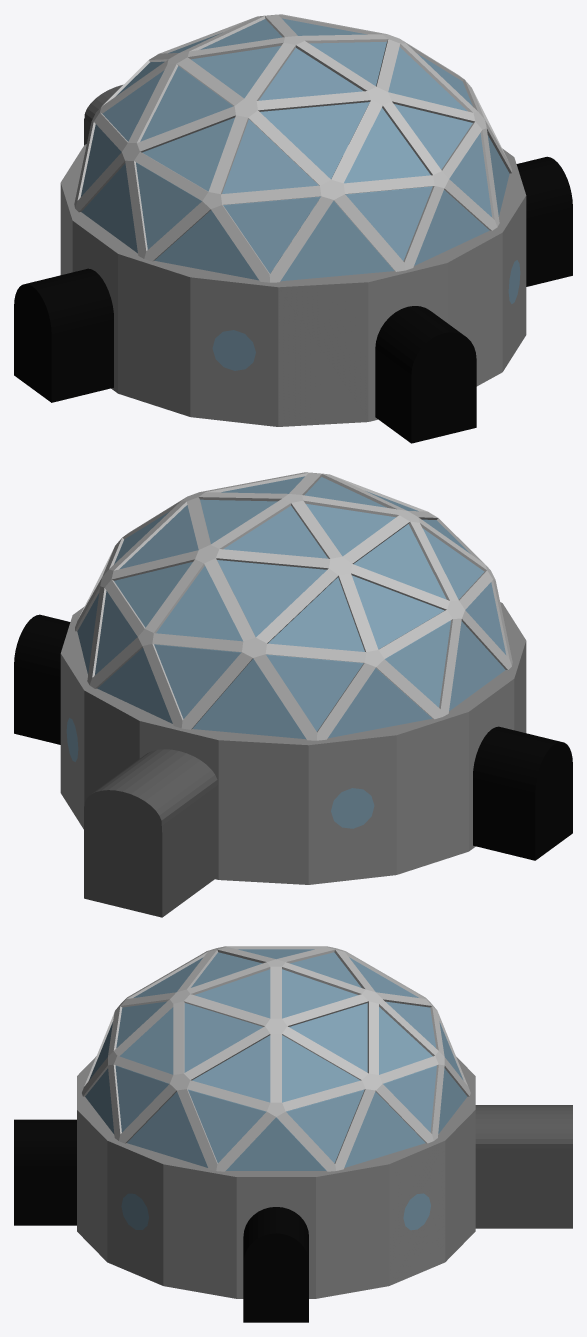
Rendered from hab2.fbx.
3 renders of one model, top to bottom at view 1: azimuth 30°, elevation 25°; view 2: azimuth 150°, elevation 25°; view 3: azimuth 270°, elevation 25°, orthographic. The views are drawn at different scales.
Visible parts, largest first — view 1: Icosphere.002, Cylinder.004, Icosphere.001, Cylinder.005, Cylinder.001, Cylinder.003, Cylinder.002; view 2: Icosphere.002, Cylinder.004, Icosphere.001, Cylinder.002, Cylinder.001, Cylinder.003; view 3: Cylinder.004, Icosphere.002, Icosphere.001, Cylinder.002, Cylinder.003, Cylinder.005.
Part boxes in pixels (x1=…): Icosphere.002: x1=81, y1=18, x2=509, y2=281; Cylinder.004: x1=60, y1=144, x2=526, y2=426; Icosphere.001: x1=74, y1=14, x2=511, y2=282; Cylinder.005: x1=375, y1=306, x2=476, y2=443; Cylinder.001: x1=14, y1=268, x2=113, y2=402; Cylinder.003: x1=516, y1=156, x2=572, y2=286; Cylinder.002: x1=84, y1=85, x2=122, y2=145; Icosphere.002: x1=77, y1=476, x2=505, y2=739; Cylinder.004: x1=60, y1=602, x2=526, y2=884; Icosphere.001: x1=75, y1=472, x2=512, y2=740; Cylinder.002: x1=84, y1=749, x2=218, y2=917; Cylinder.001: x1=473, y1=726, x2=572, y2=860; Cylinder.003: x1=14, y1=614, x2=70, y2=744; Cylinder.004: x1=77, y1=1056, x2=475, y2=1298; Icosphere.002: x1=85, y1=949, x2=467, y2=1170; Icosphere.001: x1=82, y1=946, x2=470, y2=1171; Cylinder.002: x1=475, y1=1105, x2=572, y2=1228; Cylinder.003: x1=243, y1=1207, x2=308, y2=1322; Cylinder.005: x1=14, y1=1119, x2=76, y2=1225.
Size of the model in its own units: 800 by 423 by 853.
